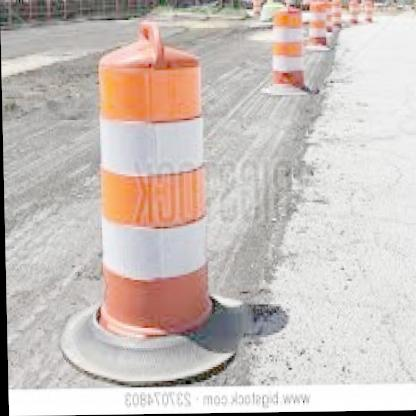obstacle: (81, 40, 214, 349), (265, 9, 308, 87)
